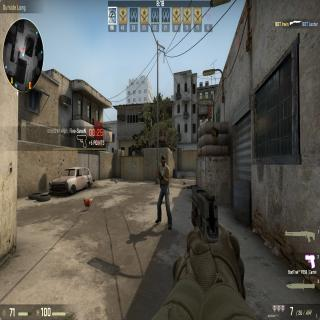T-Body: (156, 154, 172, 228)
T-Head: (160, 154, 166, 168)
